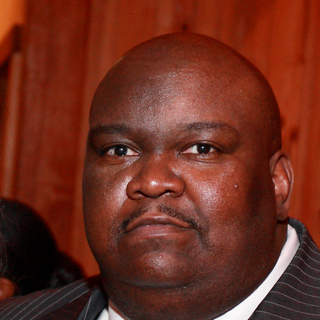eye: (179, 138, 226, 162), (96, 139, 142, 163)
